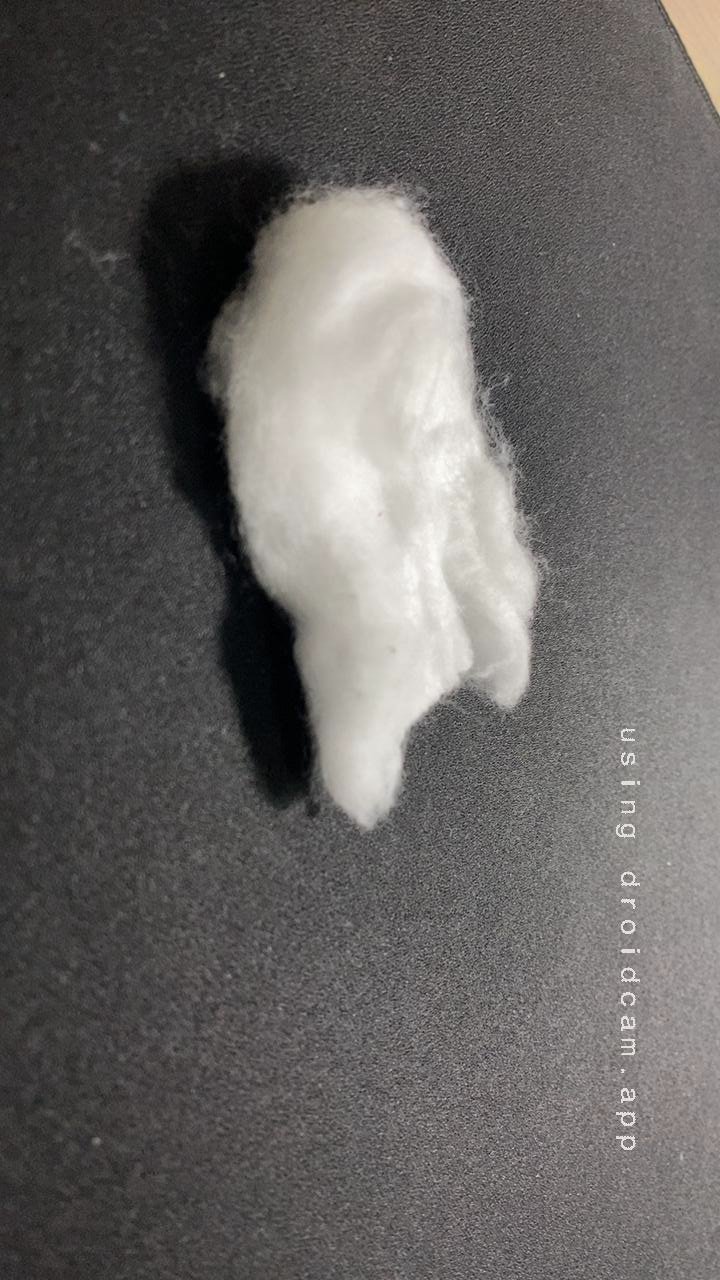cotton: (174, 143, 606, 842)
